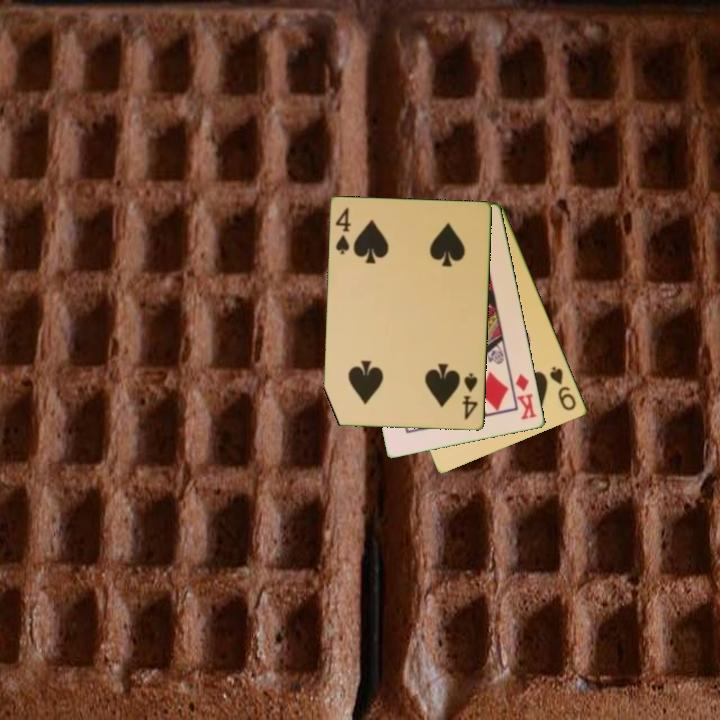4s: (459, 369, 481, 423), (332, 204, 354, 257)
9s: (546, 363, 580, 414)
Kd: (513, 370, 540, 423)
